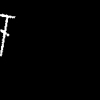double_crochet: (0, 14, 14, 55)
